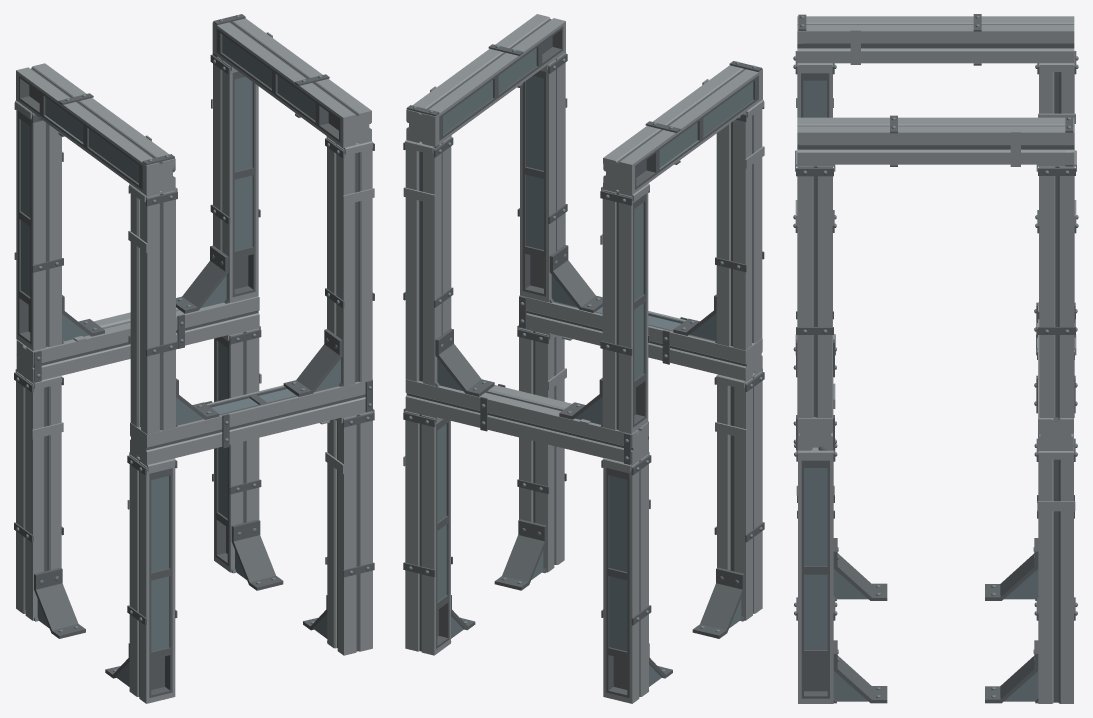
Rendered from Elevator_Frame.fbx.
3 renders of one model, left to right at view 1: azimuth 30°, elevation 25°; view 2: azimuth 150°, elevation 25°; view 3: azimuth 270°, elevation 25°, orthographic. The views are drawn at different scales.
Parts seen in each view (by area): view 1: pCylinder10; view 2: pCylinder10; view 3: pCylinder10.
Boxes of the visible parts, left/top/right/bottom form: pCylinder10: left=14, top=14, right=374, bottom=703; pCylinder10: left=403, top=14, right=764, bottom=703; pCylinder10: left=793, top=14, right=1078, bottom=703.
Bounding box in the file's own units: 3.76 × 8.37 × 3.77.
